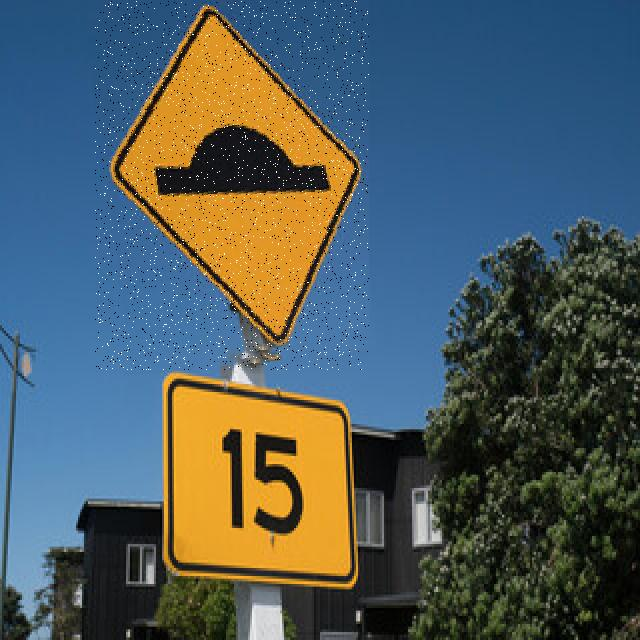hump: (95, 1, 369, 370)
